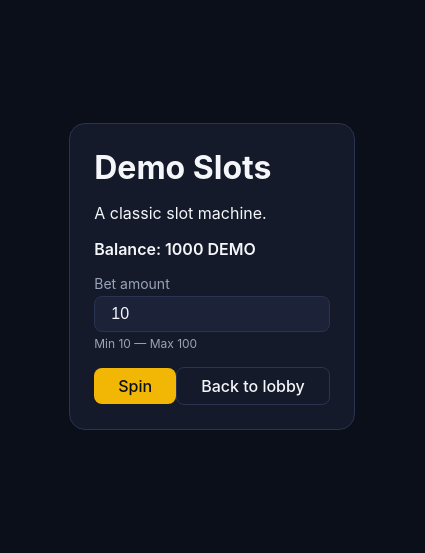
Test: Game › loads the game, submits a bet, and shows the spin result
Expected: the heading "Demo Slots" is shown, [94,148,271,186]
Step 1. Click the button "Spin" → (135, 386), box [94,368,176,404]
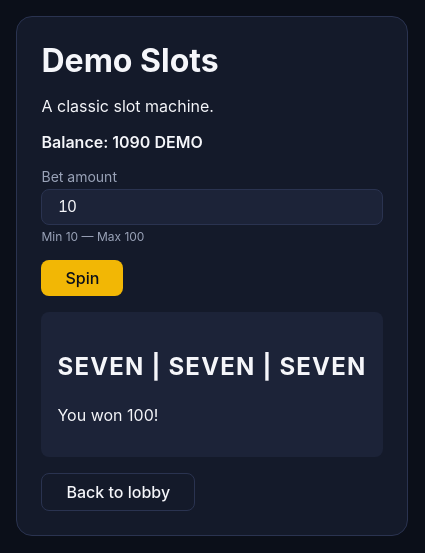
Expected: the text "You won 100!" is shown, [58,405,158,425]
Expected: the text "Balance: 1090 DEMO" is shown, [42,132,203,152]
